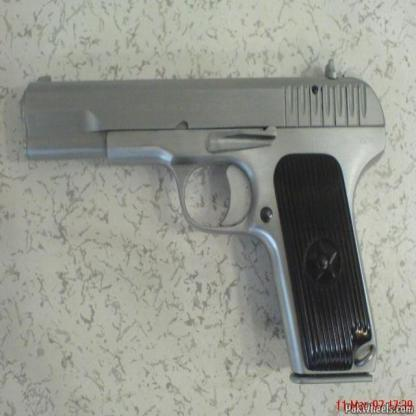Pistol: (20, 52, 388, 388)
